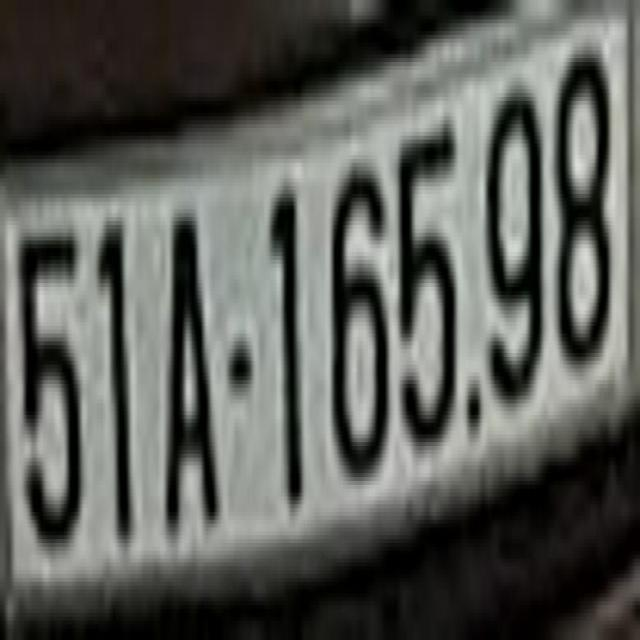1: (261, 124, 321, 539), (90, 144, 144, 558)
5: (13, 155, 88, 582), (392, 82, 459, 477)
6: (324, 108, 390, 500)
8: (552, 24, 620, 408)
9: (482, 46, 545, 422)
A: (153, 140, 219, 548)
